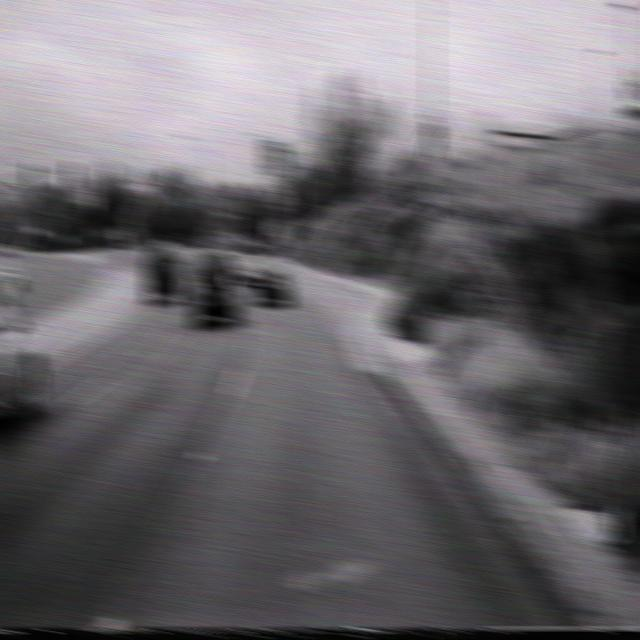pedestrianCrossing: (409, 100, 455, 175)
